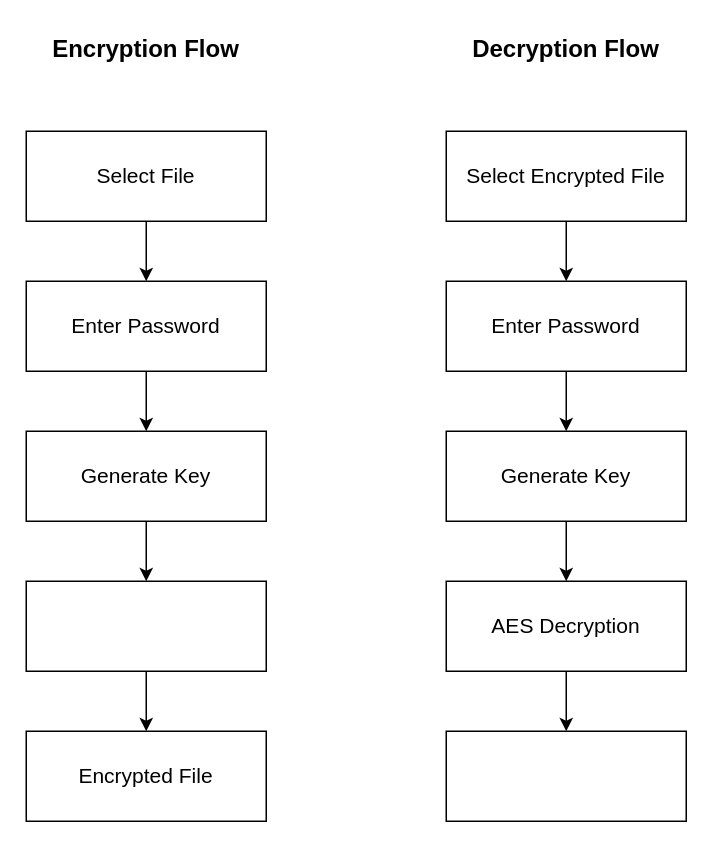
Some shapes in this 713 by 848 pixel diagram are drawn without their labels. Here are the shapes that lost their labels. From the top down, the centre of each, then its label:
At point (145, 625): "AES Encryption".
At point (565, 775): "Original File".
